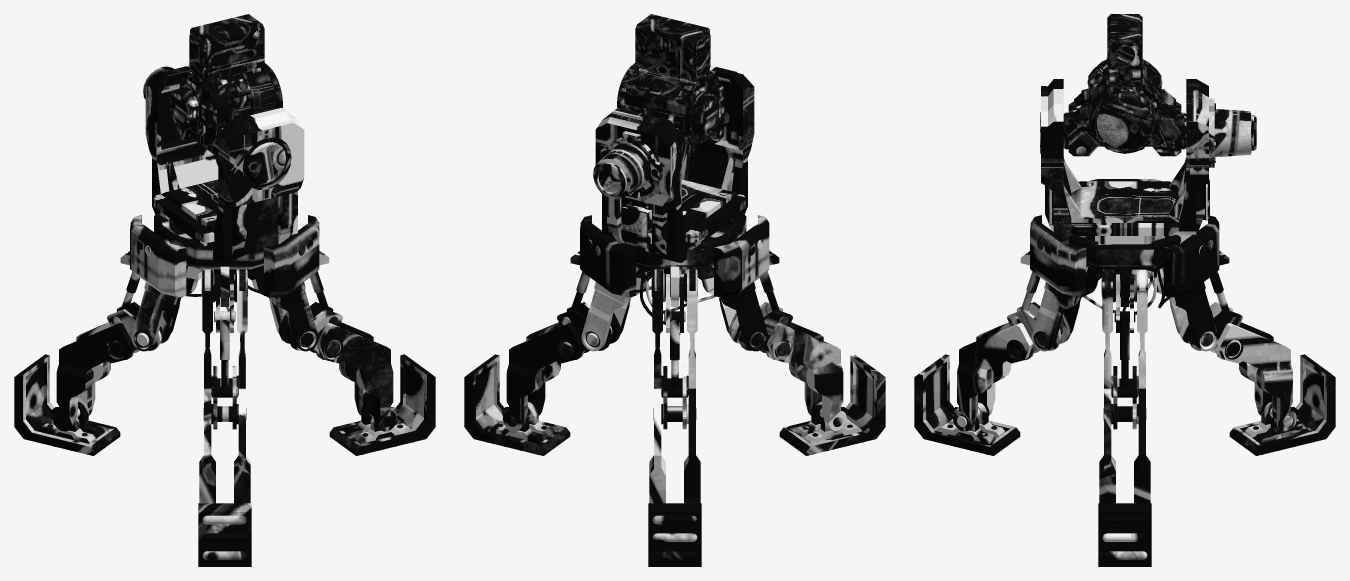
Rendered from Lazer_Turret2.fbx.
3 views of the same model, side by side, from view 1: azimuth 30°, elevation 25°; view 2: azimuth 150°, elevation 25°; view 3: azimuth 270°, elevation 25° (orthographic).
Parts seen in each view (by area): view 1: S_Base, S_Mount, S_Head_Laser; view 2: S_Base, S_Mount, S_Head_Laser; view 3: S_Base, S_Mount, S_Head_Laser.
Boxes of the visible parts, x1=… form: S_Base: x1=14, y1=213, x2=435, y2=566; S_Mount: x1=143, y1=65, x2=304, y2=262; S_Head_Laser: x1=169, y1=14, x2=282, y2=166; S_Base: x1=464, y1=213, x2=885, y2=566; S_Mount: x1=593, y1=65, x2=754, y2=262; S_Head_Laser: x1=617, y1=14, x2=724, y2=166; S_Base: x1=914, y1=179, x2=1335, y2=566; S_Mount: x1=1040, y1=79, x2=1256, y2=244; S_Head_Laser: x1=1063, y1=14, x2=1186, y2=156.
Bounding box in the file's own units: 137 × 185 × 156.
